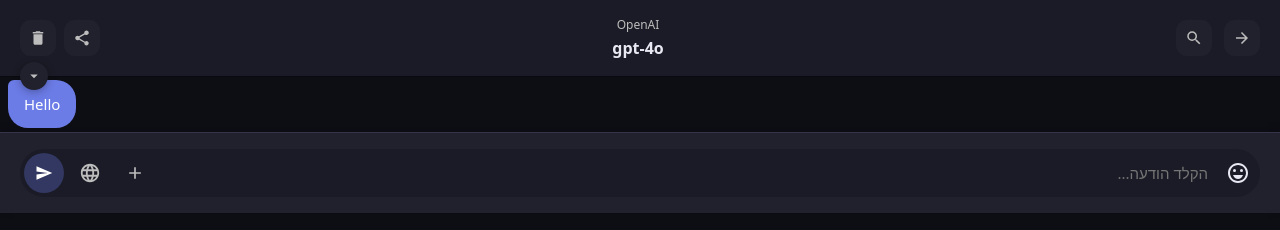
Test: ChatPage — attaching files › starts uploading at once and shows the attachment greyed with a spinner; sending waits
Later steps or results of the test are not shown.
In the text box with placeholder "הקלד הודעה...": (686,173) [160,156,1212,190], type "look at this"
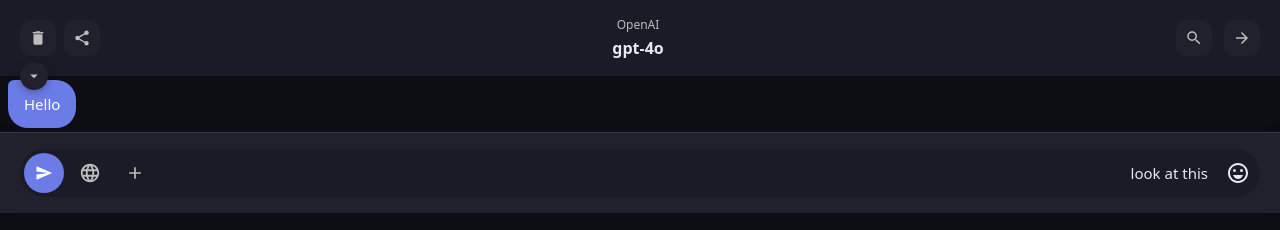
Check: the button named "Send message" is enabled, box [24,153,64,193]
